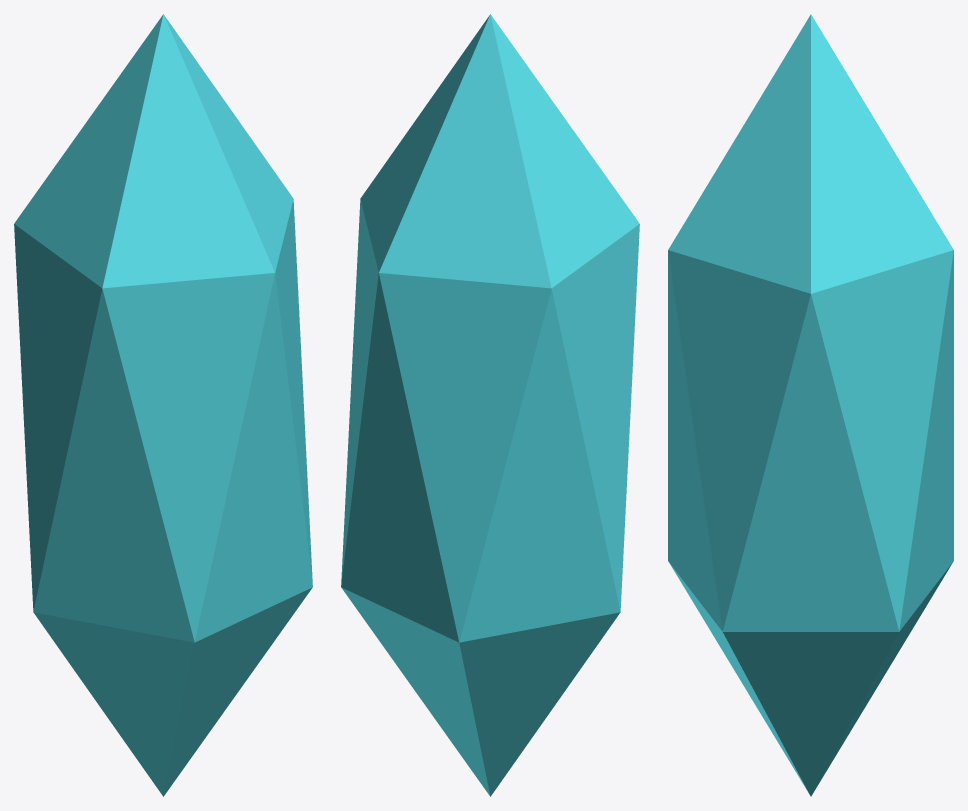
Rendered from crystal.glb.
The picture shows the model from 3 angles, left to right: view 1: azimuth 30°, elevation 25°; view 2: azimuth 150°, elevation 25°; view 3: azimuth 270°, elevation 25°; orthographic projection.
Visible parts, largest first — view 1: Game_Crystal; view 2: Game_Crystal; view 3: Game_Crystal.
Part boxes in pixels (box(x1,y1,x2,y2)): Game_Crystal: box(14, 14, 312, 796); Game_Crystal: box(341, 14, 639, 796); Game_Crystal: box(668, 14, 953, 796).
Bounding box in the file's own units: 1.25 × 3.6 × 1.19.
